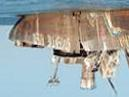rust: (21, 14, 129, 38)
